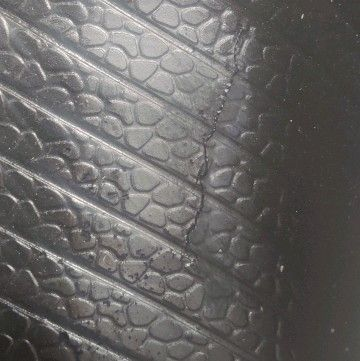CBU: (184, 58, 245, 263)
